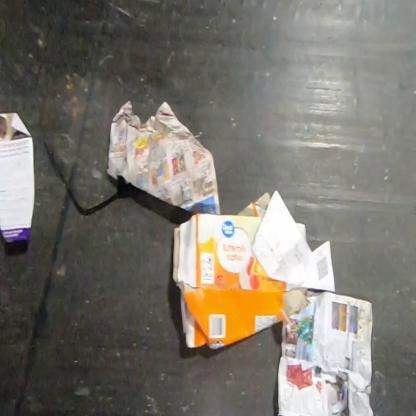cardboard: (172, 212, 336, 350), (295, 222, 307, 243)
